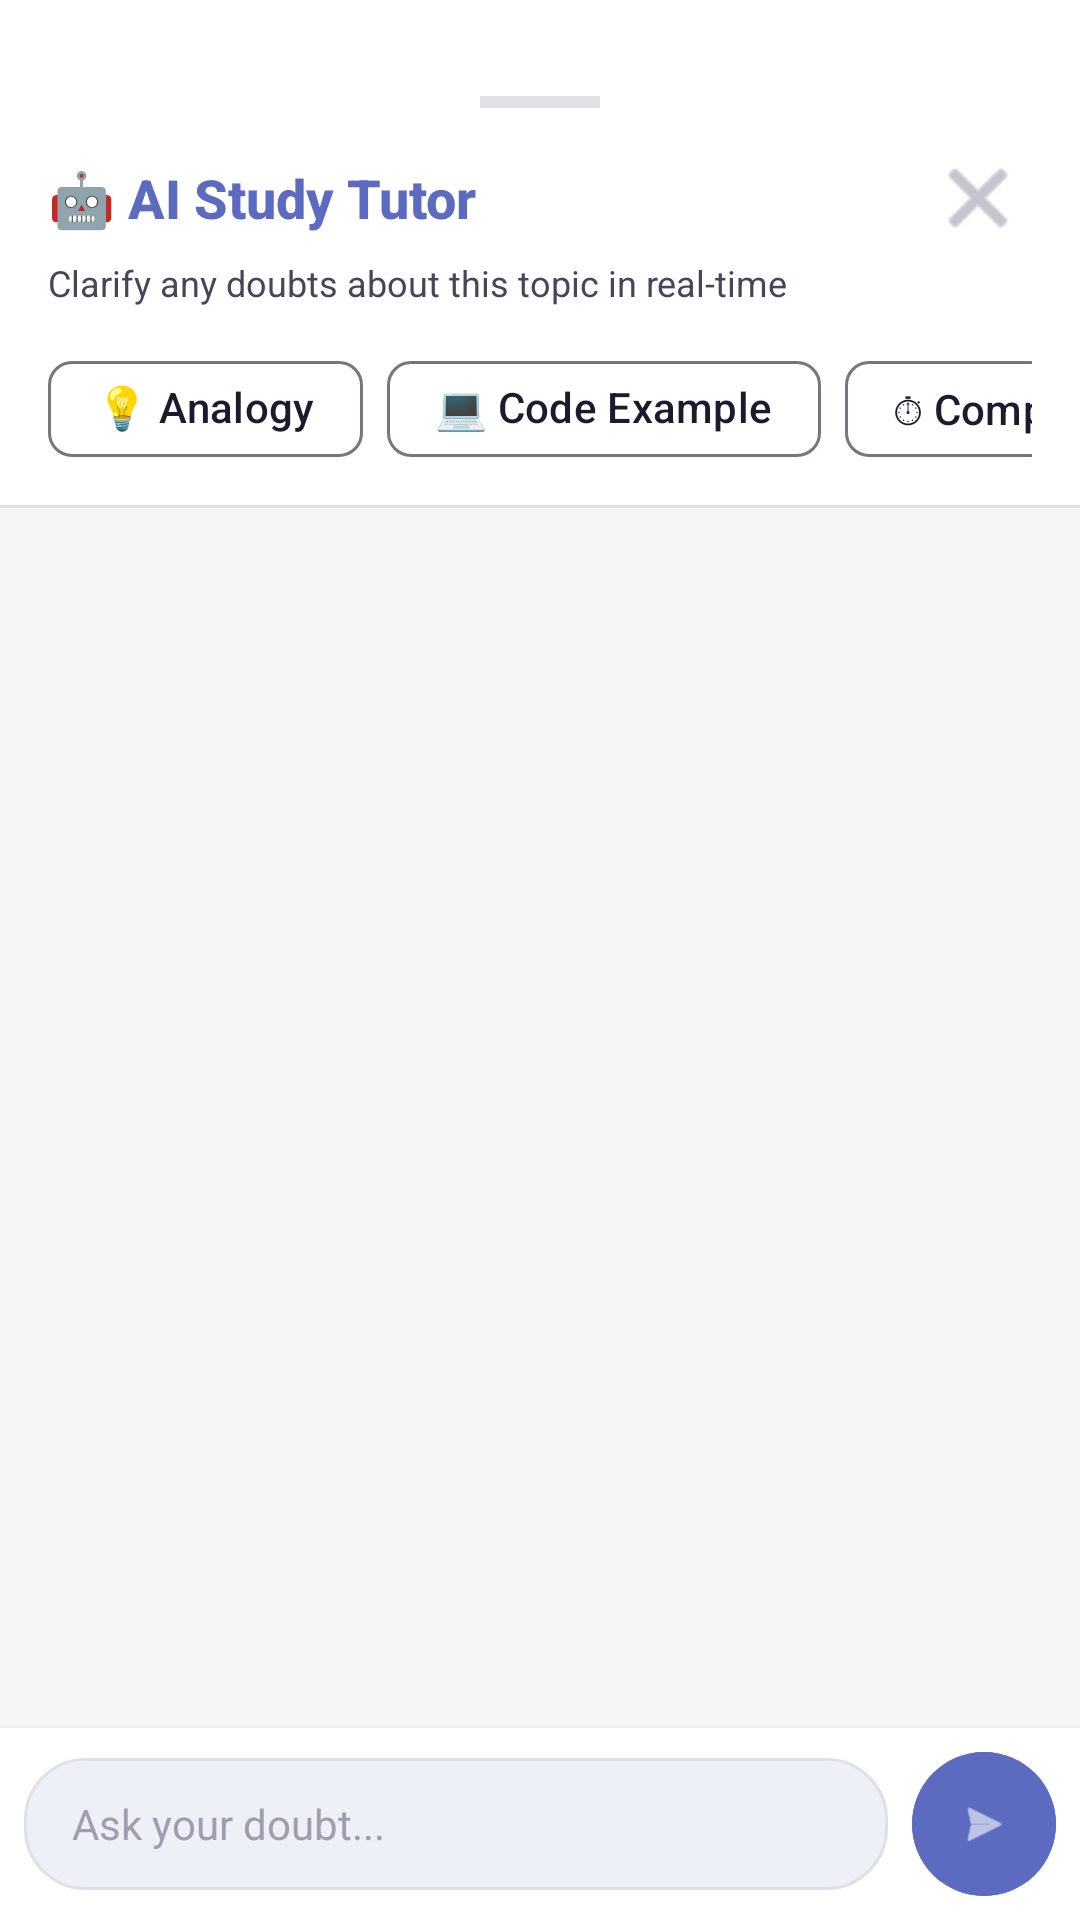

Where to tap for icons on this 1080px x 1920px app screen, as (x,y):
close clear cancel: (978,198)
send: (984,1824)
